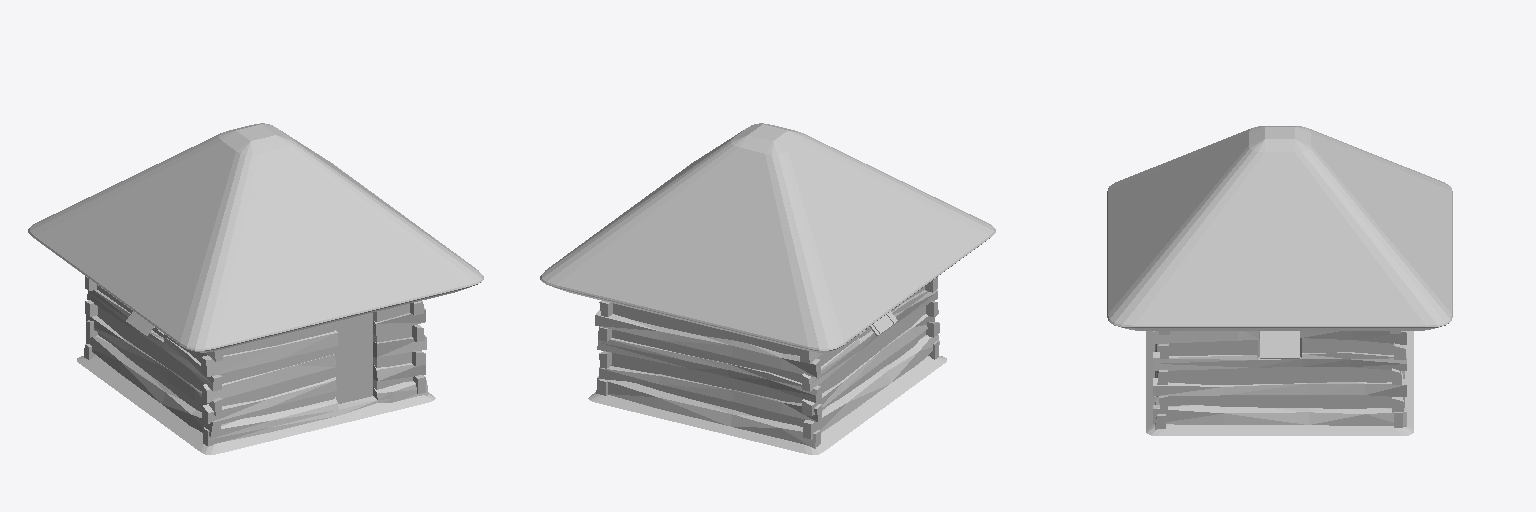
The model's file is smoker.obj.
3 renders of one model, left to right at view 1: azimuth 30°, elevation 25°; view 2: azimuth 150°, elevation 25°; view 3: azimuth 270°, elevation 25°, orthographic.
Visible parts, largest first — view 1: ROOF.001; view 2: ROOF.001; view 3: ROOF.001.
Part boxes in pixels (bbox=[...]): ROOF.001: bbox=[28, 123, 483, 454]; ROOF.001: bbox=[540, 123, 995, 454]; ROOF.001: bbox=[1107, 126, 1452, 435].
Size of the model in its own units: 4.27 by 3.36 by 4.27.